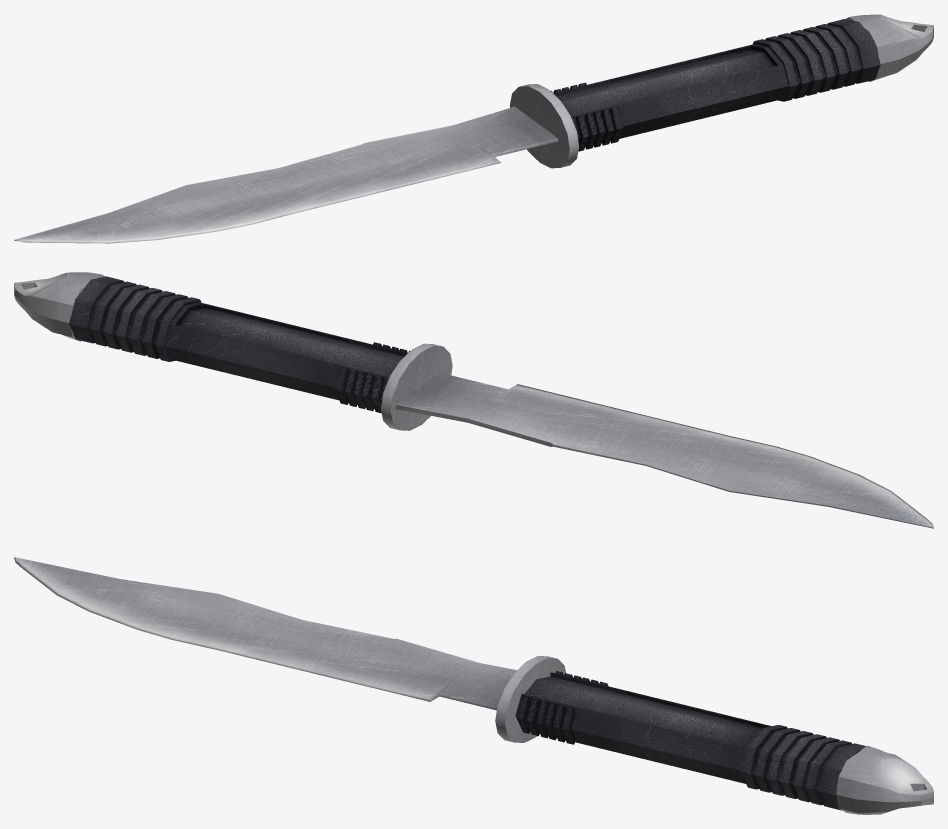
File: Knife.FBX
3 views of the same model, one above another, from view 1: azimuth 30°, elevation 25°; view 2: azimuth 150°, elevation 25°; view 3: azimuth 330°, elevation 25° (orthographic). The views are drawn at different scales.
Parts seen in each view (by area): view 1: Blade, Handle; view 2: Blade, Handle; view 3: Blade, Handle.
Part boxes in pixels (box(x1,y1,x2,y2)): Blade: box(14, 14, 933, 243); Handle: box(551, 19, 880, 151); Blade: box(14, 272, 933, 528); Handle: box(69, 276, 409, 413); Blade: box(14, 557, 933, 814); Handle: box(515, 671, 865, 810).
Size of the model in its own units: 4.12 by 0.3072 by 0.4724.
2 materials, 2 textured.
